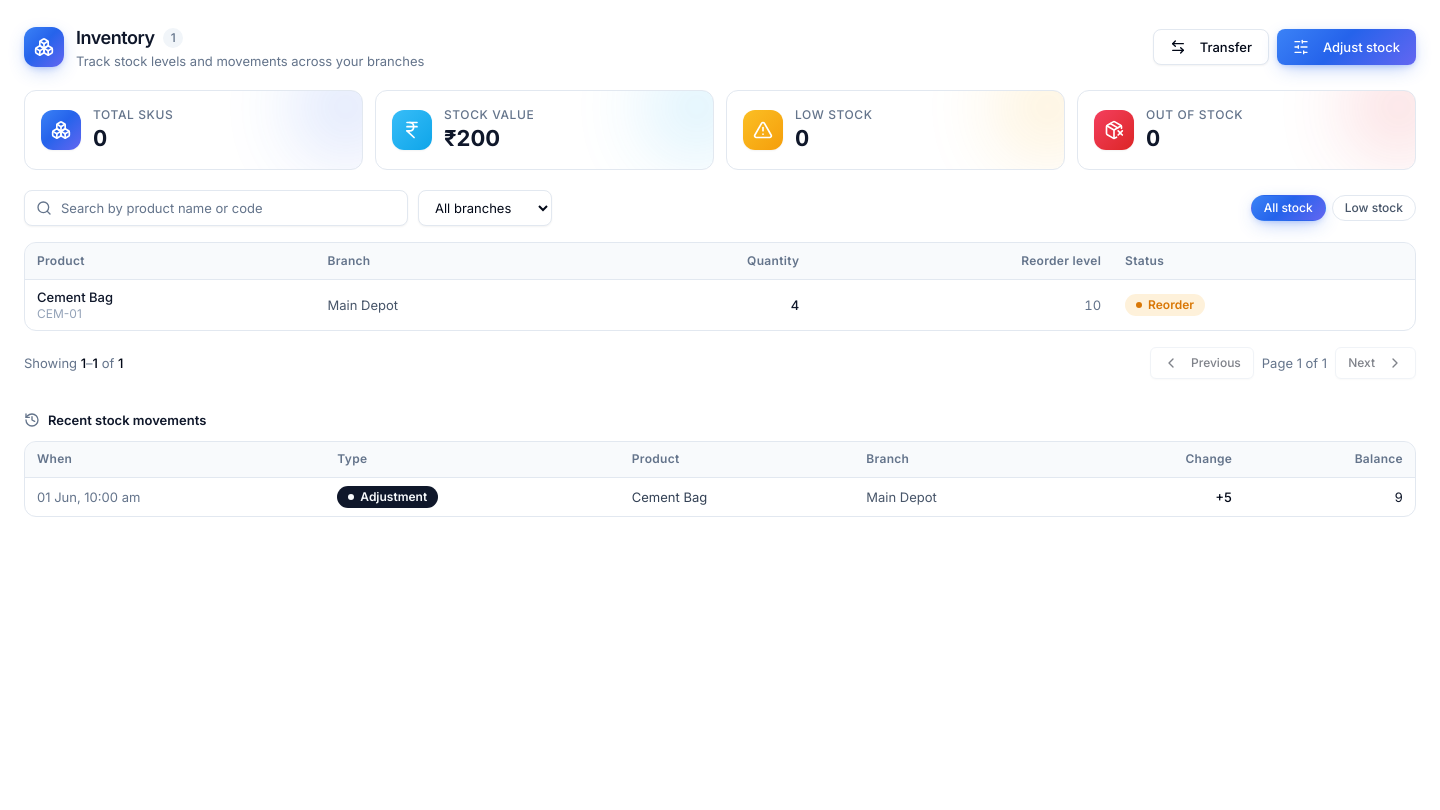
Test case: InventoryView › opens the adjust dialog
The width and height of the screenshot is (1440, 810).
Click the button "Adjust stock" at (1346, 47), box [1277,29,1416,65]
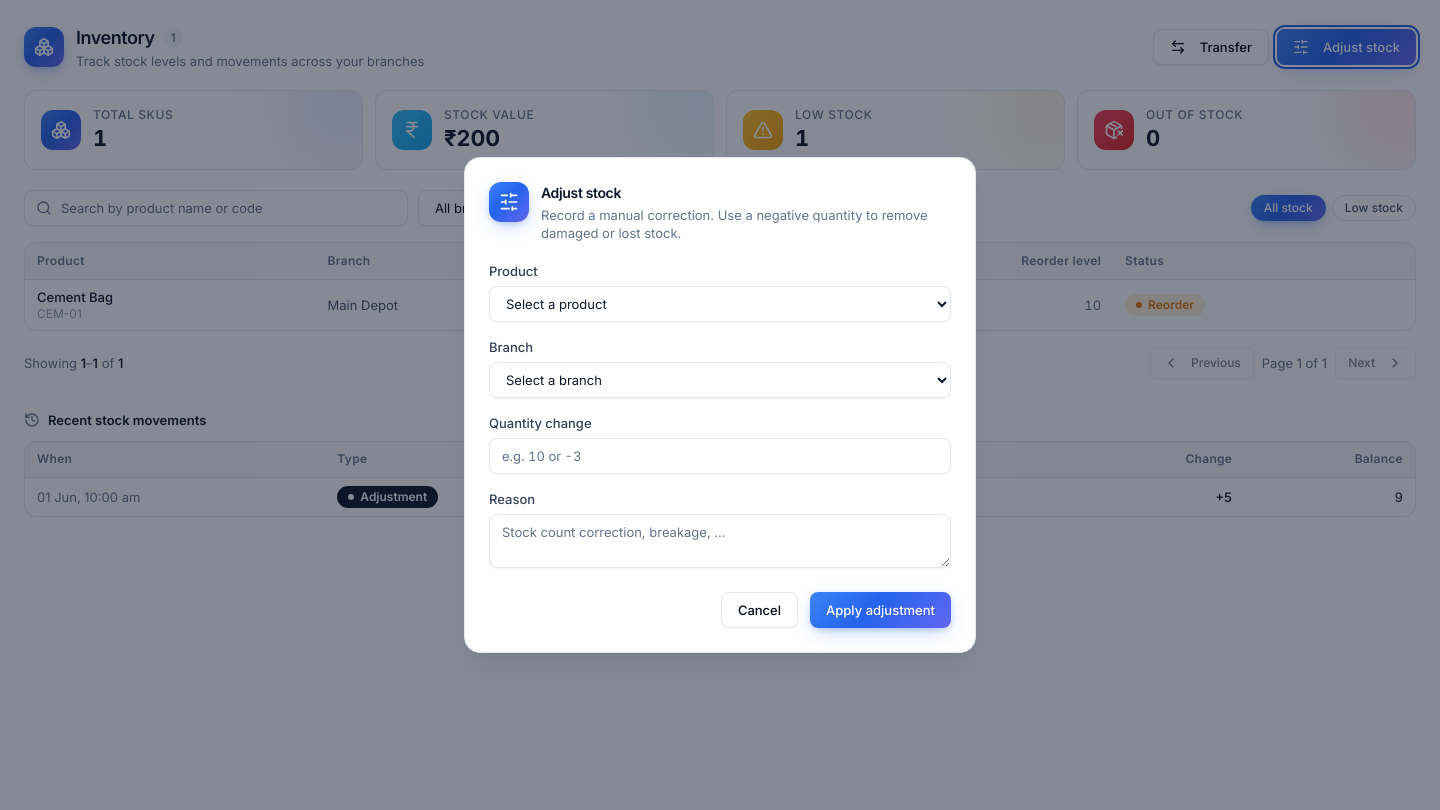
Now the heading "Adjust stock" is shown, box [541,184,621,201]
